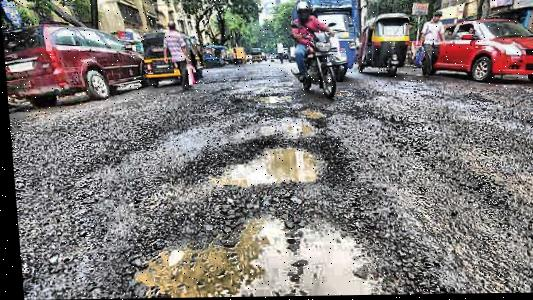pothole: (101, 195, 425, 296), (191, 137, 344, 186), (278, 117, 317, 137), (294, 103, 328, 122), (250, 92, 293, 106)
